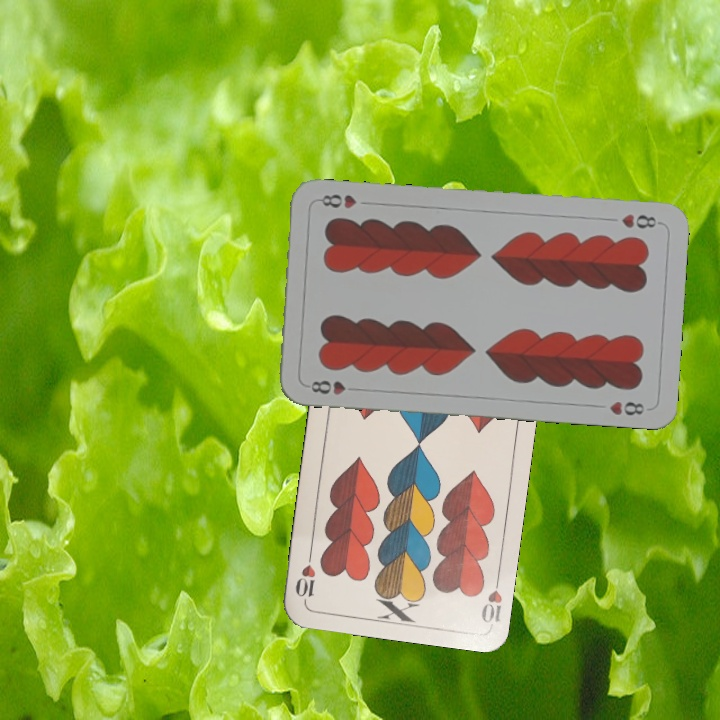H10: (477, 568, 505, 627)
H8: (307, 376, 362, 397), (617, 210, 663, 231)
